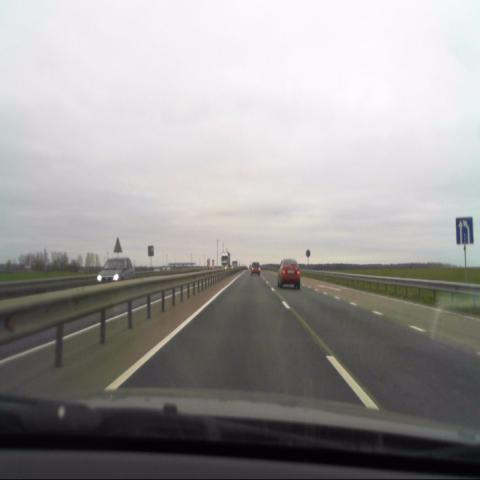5_15_5: (455, 217, 473, 247)
